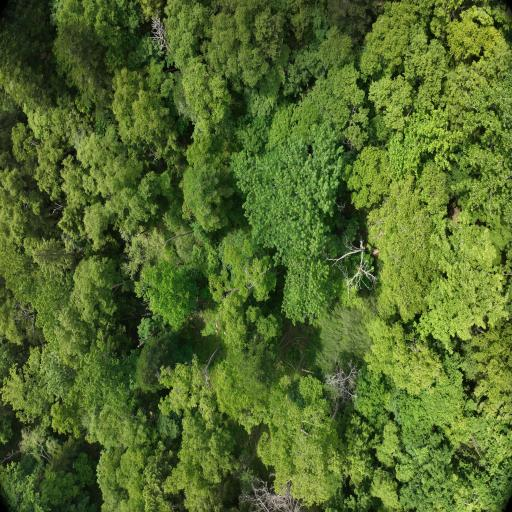dead-tree: (234, 466, 314, 512), (328, 235, 381, 294), (324, 357, 361, 415), (144, 10, 178, 57)
